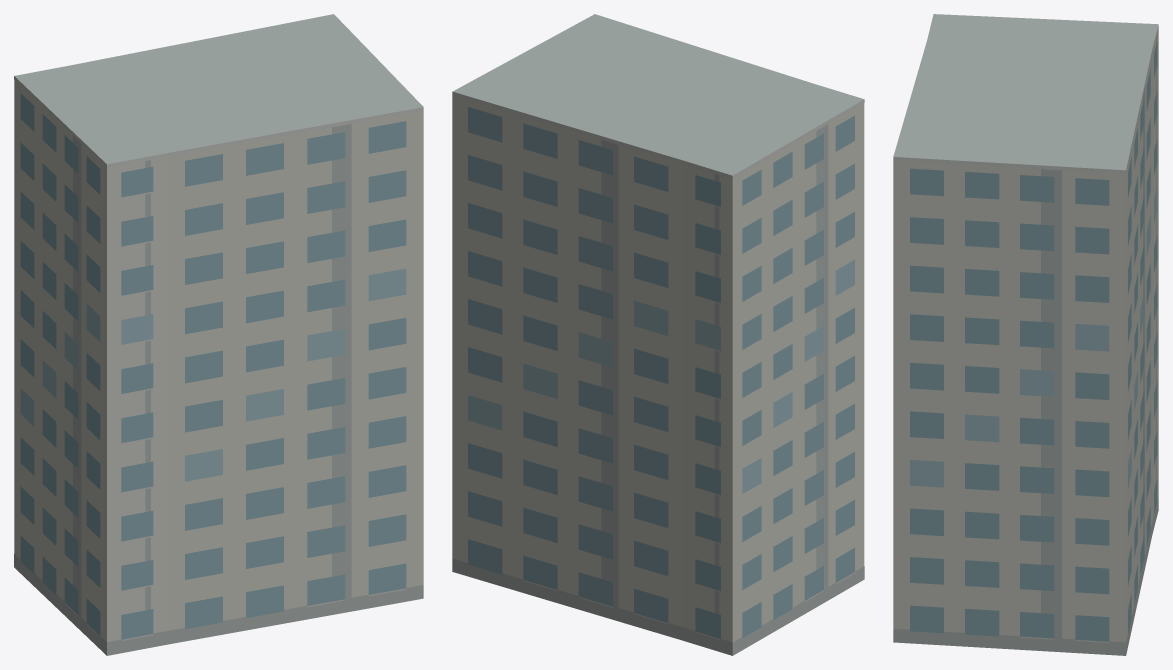
Rendered from residential-a8be205a-8d72-4e72-a384-4cbdbfe79c3f.glb.
3 renders of one model, left to right at view 1: azimuth 30°, elevation 25°; view 2: azimuth 150°, elevation 25°; view 3: azimuth 270°, elevation 25°, orthographic. The views are drawn at different scales.
Parts seen in each view (by area): view 1: residential-a8be205a-8d72-4e72-a384-4cbdbfe79c3f.tmp; view 2: residential-a8be205a-8d72-4e72-a384-4cbdbfe79c3f.tmp; view 3: residential-a8be205a-8d72-4e72-a384-4cbdbfe79c3f.tmp.
Part boxes in pixels (<box>): residential-a8be205a-8d72-4e72-a384-4cbdbfe79c3f.tmp: <box>14,14,423,655</box>; residential-a8be205a-8d72-4e72-a384-4cbdbfe79c3f.tmp: <box>452,14,864,655</box>; residential-a8be205a-8d72-4e72-a384-4cbdbfe79c3f.tmp: <box>893,14,1158,655</box>.
Bounding box in the file's own units: 21.07 × 30.5 × 15.12.
